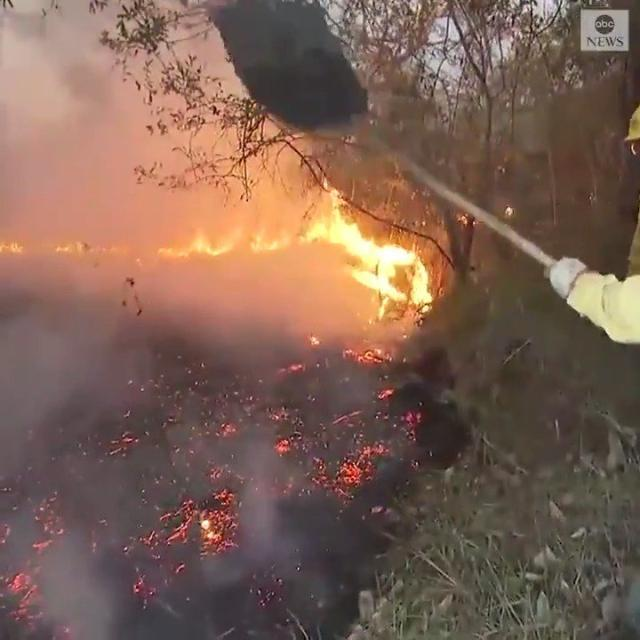Fire: (175, 170, 437, 327)
Smoke: (5, 342, 443, 640), (0, 55, 174, 339)
